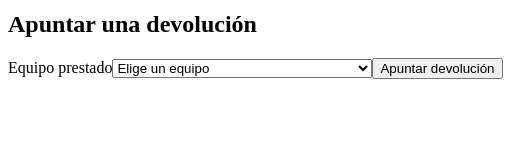
Test case: pantalla Apuntar una devolución › enseña tal cual el mensaje de la API con un 404: No existe el equipo
Select "Portátil 07: Ana Pérez hasta 2026-12-15" in the dropdown labelled "Equipo prestado": (242, 68) [112,59,372,78]
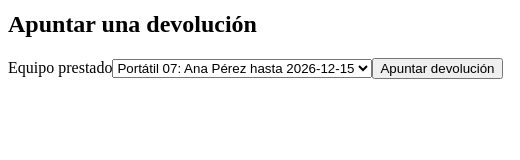
Click the button "Apuntar devolución": click(437, 68) [372,58,502,79]
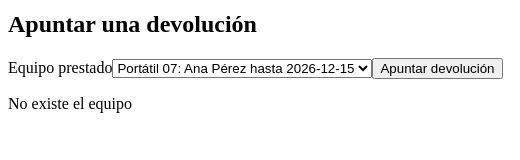
expect the message reads "No existe el equipo": met, box [8,95,132,112]
